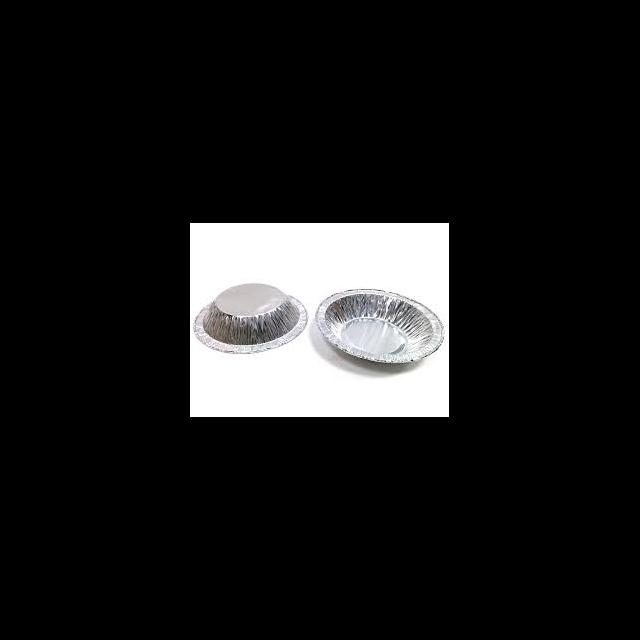metal: (314, 287, 444, 363), (192, 281, 308, 352)
